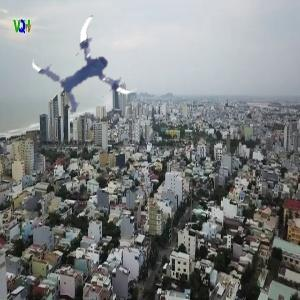drone: (42, 19, 143, 120)
